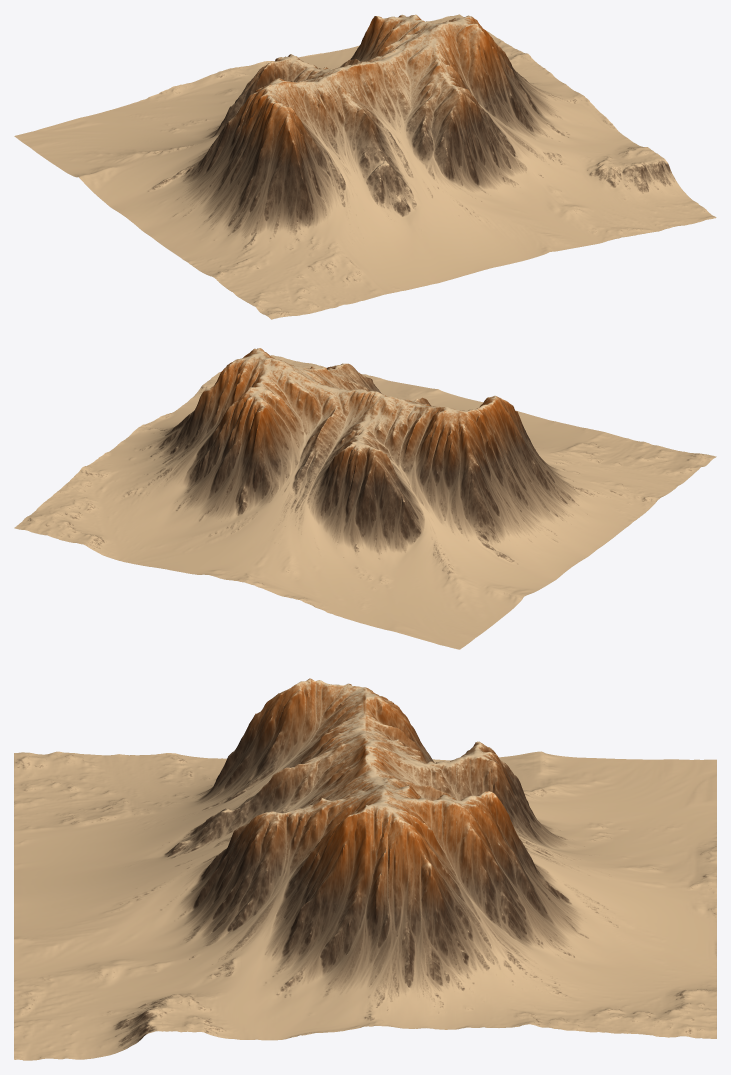
The model's file is worldmachine_terrain.glb.
The picture shows the model from 3 angles, top to bottom: view 1: azimuth 30°, elevation 25°; view 2: azimuth 150°, elevation 25°; view 3: azimuth 270°, elevation 25°; orthographic projection. The views are drawn at different scales.
Parts seen in each view (by area): view 1: Object_3, Object_2, Object_4; view 2: Object_2, Object_3, Object_4; view 3: Object_3, Object_2, Object_4.
Part boxes in pixels (x1,y1,x2,y2): Object_3: (138, 14, 716, 319); Object_2: (14, 14, 613, 264); Object_4: (95, 16, 589, 217); Object_2: (14, 348, 635, 649); Object_3: (97, 348, 716, 562); Object_4: (137, 355, 561, 595); Object_3: (14, 683, 488, 1060); Object_2: (230, 678, 716, 1038); Object_4: (359, 696, 553, 1027).
Size of the model in its own units: 27.61 by 7.67 by 27.61.
Materials: 1 (1 with a texture image).
